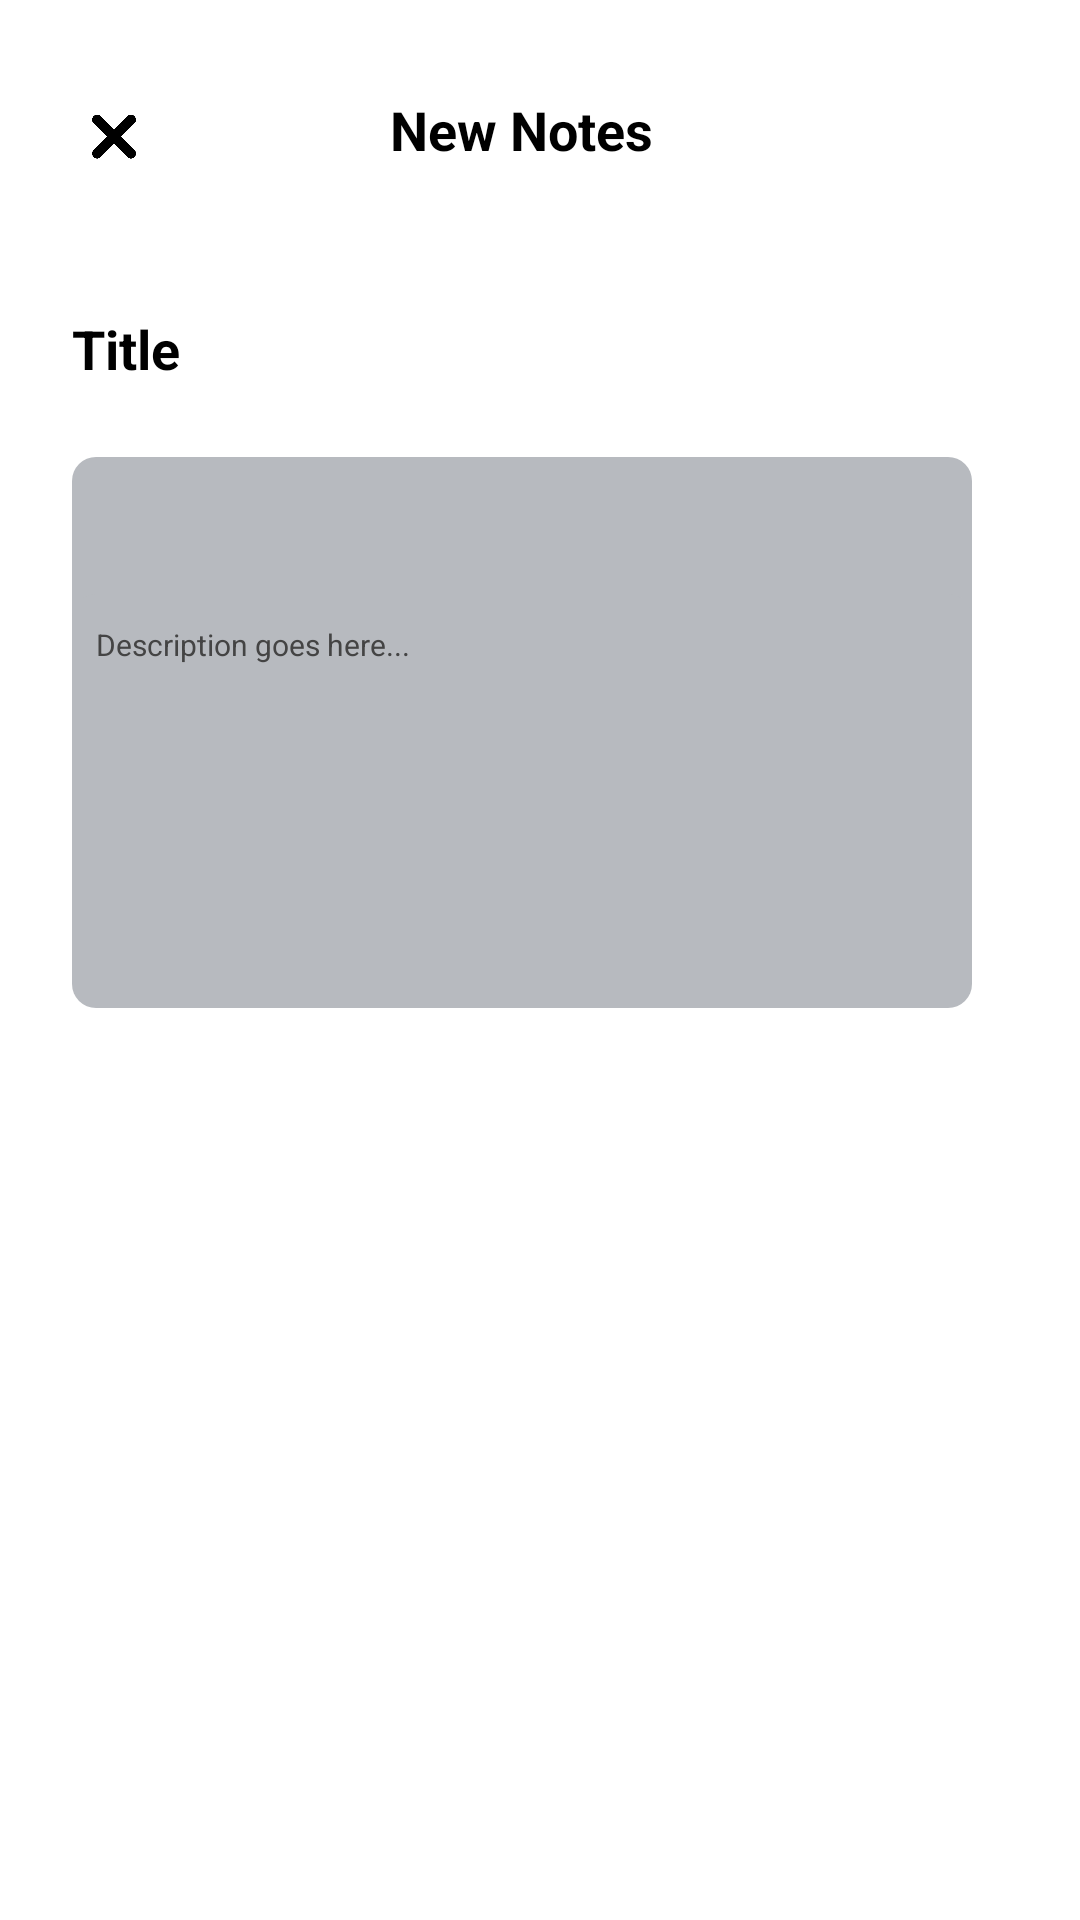

Where to tap for icons on this 1080 × 1920 app screen, as [x,y]:
cross: [114,137]
